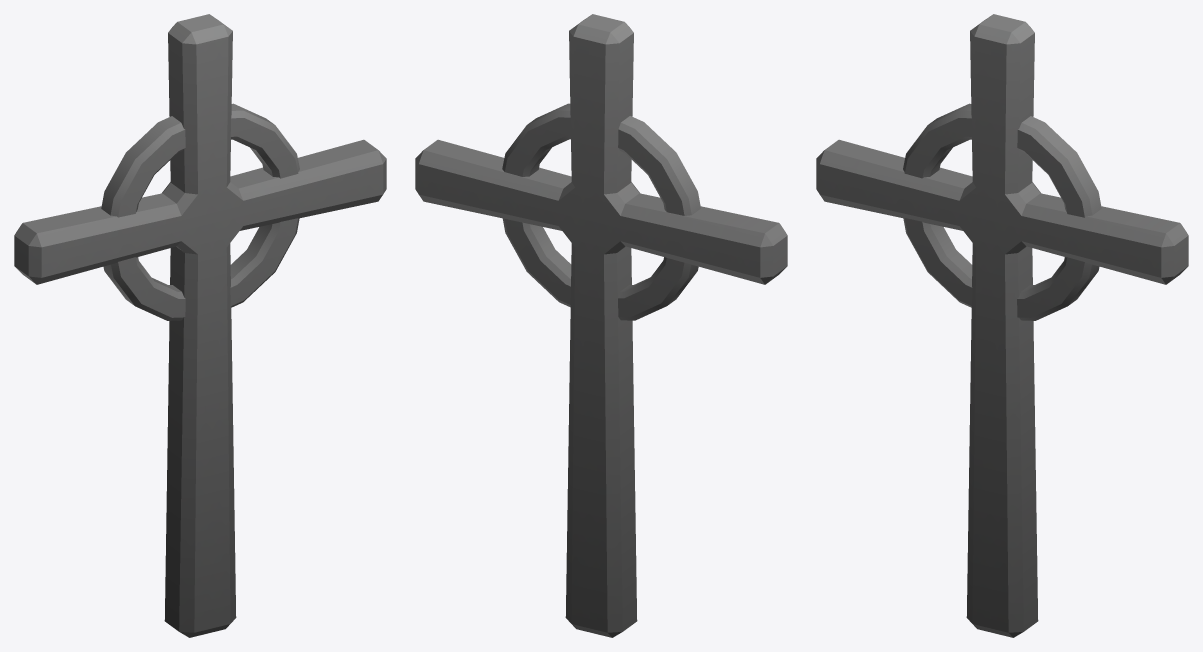
Rendered from Cross2.fbx.
The picture shows the model from 3 angles, left to right: view 1: azimuth 30°, elevation 25°; view 2: azimuth 150°, elevation 25°; view 3: azimuth 330°, elevation 25°; orthographic projection.
Visible parts, largest first — view 1: Cross2; view 2: Cross2; view 3: Cross2.
Part boxes in pixels (box(x1,y1,x2,y2)): Cross2: box(14, 14, 386, 637); Cross2: box(415, 14, 787, 637); Cross2: box(816, 14, 1188, 637).
Size of the model in its own units: 0.8239 by 1.33 by 0.0951.
Materials: 1 (1 with a texture image).
